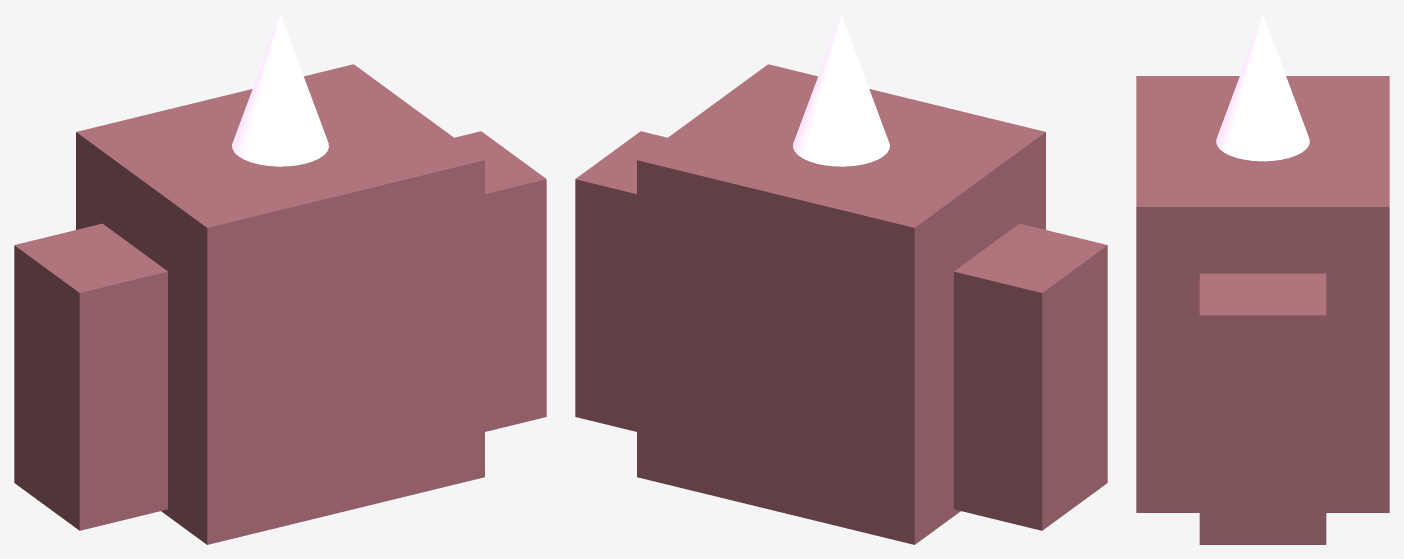
The model's file is warden.glb.
3 views of the same model, side by side, from view 1: azimuth 30°, elevation 25°; view 2: azimuth 150°, elevation 25°; view 3: azimuth 270°, elevation 25° (orthographic). The views are drawn at different scales.
Parts seen in each view (by area): view 1: Cube, Cube.001, Cube.002, Cone; view 2: Cube, Cube.001, Cube.002, Cone; view 3: Cube, Cube.002, Cone.
Part boxes in pixels (x1,y1,x2,y2): Cube: (76,64,484,544); Cube.001: (14,223,167,530); Cube.002: (454,131,546,431); Cone: (232,14,328,166); Cube: (637,64,1045,544); Cube.001: (954,223,1107,530); Cube.002: (575,131,667,431); Cone: (793,14,889,166); Cube: (1136,76,1389,512); Cube.002: (1199,273,1326,544); Cone: (1216,14,1309,161).
Bounding box in the file's own units: 3.7 × 3.4 × 1.8.
